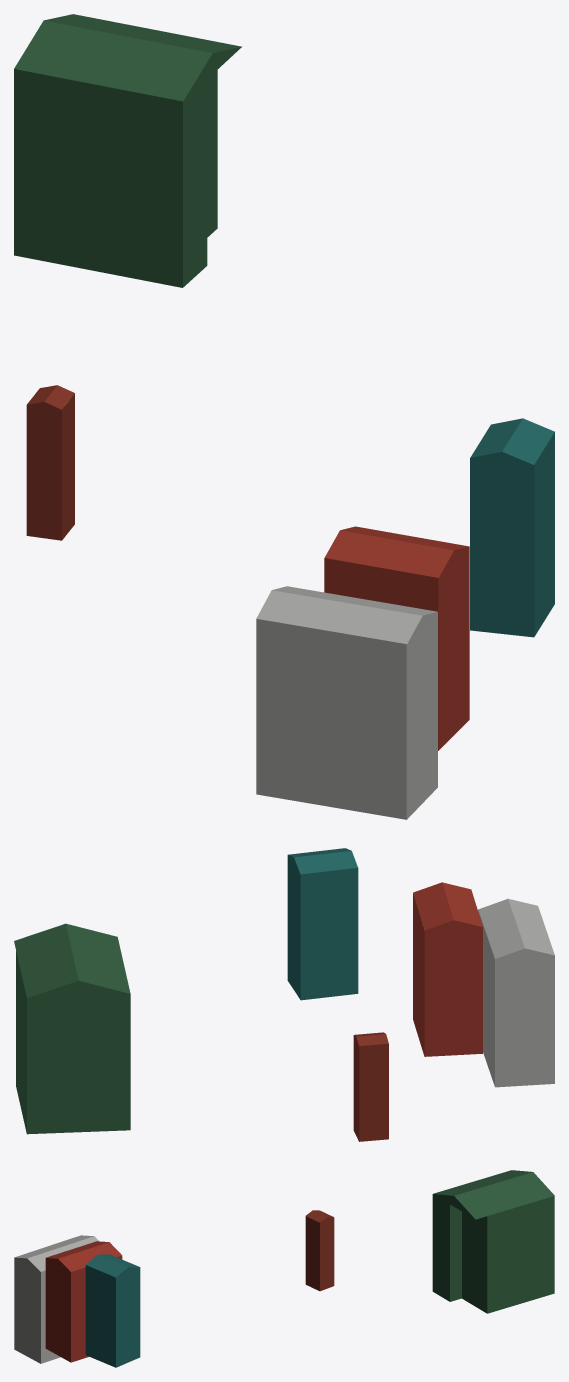
The model's file is near-15-27350-14879.dea4a67f.glb.
The picture shows the model from 3 angles, top to bottom: view 1: azimuth 30°, elevation 25°; view 2: azimuth 150°, elevation 25°; view 3: azimuth 270°, elevation 25°; orthographic projection. The views are drawn at different scales.
Size of the model in its own units: 37.38 by 39.6 by 91.82.
